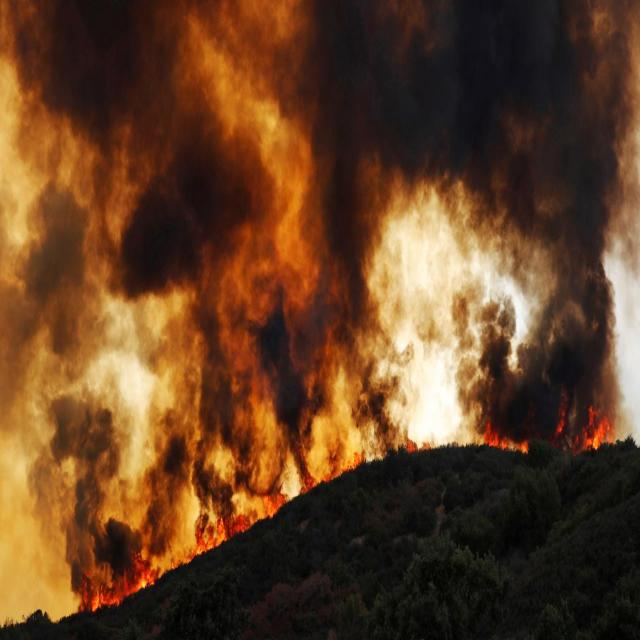Fire: (0, 401, 640, 621)
Smoke: (0, 0, 629, 597)
